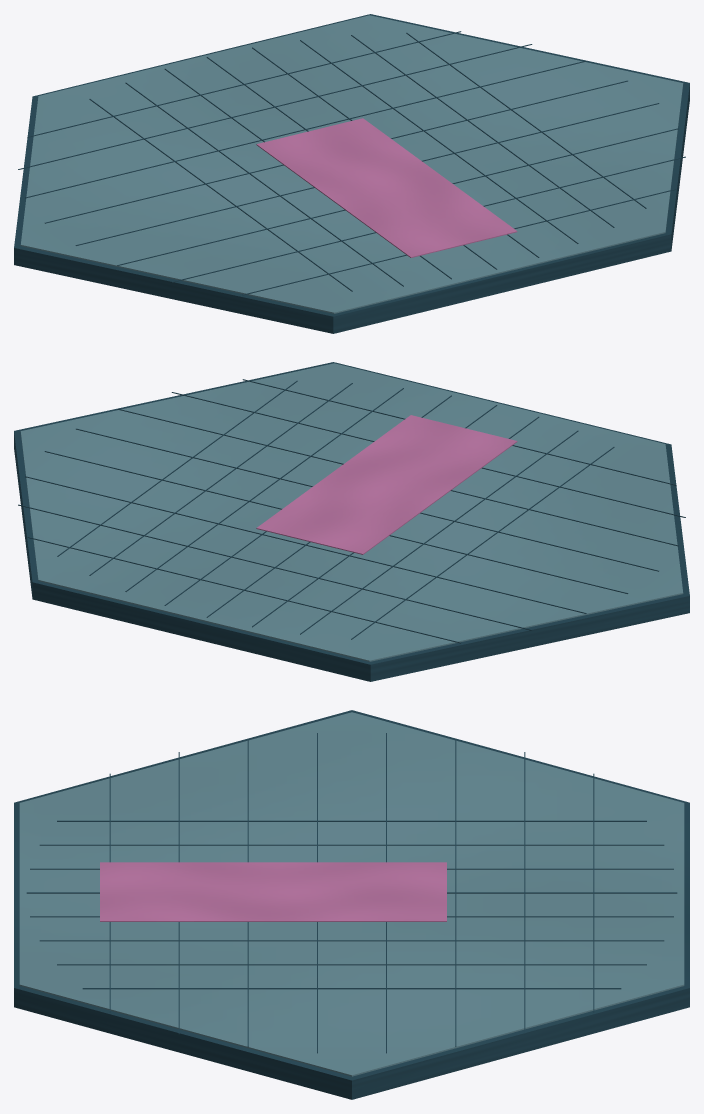
File: atlas100-s065-a07.lod1.glb
The picture shows the model from 3 angles, top to bottom: view 1: azimuth 30°, elevation 25°; view 2: azimuth 150°, elevation 25°; view 3: azimuth 270°, elevation 25°; orthographic projection. The views are drawn at different scales.
Visible parts, largest first — view 1: atlas100-s065-a07:part-001, atlas100-s065-a07:part-000, atlas100-s065-a07:part-021, atlas100-s065-a07:part-015, atlas100-s065-a07:part-014, atlas100-s065-a07:part-017, atlas100-s065-a07:part-016, atlas100-s065-a07:part-018, atlas100-s065-a07:part-013, atlas100-s065-a07:part-019, atlas100-s065-a07:part-005, atlas100-s065-a07:part-009 (+3 smaller); view 2: atlas100-s065-a07:part-001, atlas100-s065-a07:part-000, atlas100-s065-a07:part-021, atlas100-s065-a07:part-015, atlas100-s065-a07:part-014, atlas100-s065-a07:part-016, atlas100-s065-a07:part-017, atlas100-s065-a07:part-018, atlas100-s065-a07:part-013, atlas100-s065-a07:part-019, atlas100-s065-a07:part-005, atlas100-s065-a07:part-009 (+3 smaller); view 3: atlas100-s065-a07:part-001, atlas100-s065-a07:part-021, atlas100-s065-a07:part-000, atlas100-s065-a07:part-005, atlas100-s065-a07:part-009, atlas100-s065-a07:part-004, atlas100-s065-a07:part-010, atlas100-s065-a07:part-011, atlas100-s065-a07:part-015, atlas100-s065-a07:part-007, atlas100-s065-a07:part-006, atlas100-s065-a07:part-008.
Boxes of the visible parts, left/top/right/bottom form: atlas100-s065-a07:part-001: left=20, top=15, right=683, bottom=313; atlas100-s065-a07:part-000: left=14, top=14, right=689, bottom=333; atlas100-s065-a07:part-021: left=256, top=118, right=517, bottom=257; atlas100-s065-a07:part-015: left=25, top=60, right=586, bottom=198; atlas100-s065-a07:part-014: left=18, top=44, right=532, bottom=169; atlas100-s065-a07:part-017: left=75, top=103, right=659, bottom=245; atlas100-s065-a07:part-016: left=45, top=80, right=627, bottom=223; atlas100-s065-a07:part-018: left=117, top=128, right=678, bottom=265; atlas100-s065-a07:part-013: left=27, top=31, right=461, bottom=137; atlas100-s065-a07:part-019: left=171, top=156, right=685, bottom=282; atlas100-s065-a07:part-005: left=125, top=82, right=403, bottom=286; atlas100-s065-a07:part-009: left=300, top=40, right=578, bottom=243; atlas100-s065-a07:part-001: left=20, top=363, right=683, bottom=661; atlas100-s065-a07:part-000: left=14, top=362, right=689, bottom=681; atlas100-s065-a07:part-021: left=256, top=415, right=517, bottom=554; atlas100-s065-a07:part-015: left=25, top=476, right=586, bottom=613; atlas100-s065-a07:part-014: left=18, top=504, right=532, bottom=630; atlas100-s065-a07:part-016: left=44, top=451, right=628, bottom=593; atlas100-s065-a07:part-017: left=76, top=428, right=658, bottom=571; atlas100-s065-a07:part-018: left=117, top=408, right=678, bottom=546; atlas100-s065-a07:part-013: left=27, top=537, right=460, bottom=643; atlas100-s065-a07:part-019: left=171, top=392, right=685, bottom=517; atlas100-s065-a07:part-005: left=300, top=430, right=578, bottom=634; atlas100-s065-a07:part-009: left=125, top=388, right=403, bottom=591; atlas100-s065-a07:part-001: left=19, top=712, right=684, bottom=1076; atlas100-s065-a07:part-021: left=100, top=862, right=446, bottom=921; atlas100-s065-a07:part-000: left=14, top=710, right=689, bottom=1099; atlas100-s065-a07:part-005: left=39, top=844, right=664, bottom=845; atlas100-s065-a07:part-009: left=39, top=940, right=664, bottom=941; atlas100-s065-a07:part-004: left=57, top=820, right=646, bottom=821; atlas100-s065-a07:part-010: left=57, top=964, right=646, bottom=965; atlas100-s065-a07:part-011: left=82, top=988, right=621, bottom=989; atlas100-s065-a07:part-015: left=455, top=739, right=456, bottom=1046; atlas100-s065-a07:part-007: left=26, top=892, right=677, bottom=893; atlas100-s065-a07:part-006: left=30, top=868, right=673, bottom=869; atlas100-s065-a07:part-008: left=30, top=916, right=673, bottom=917.
Bounding box in the file's own units: 13.95 × 0.404 × 10.76.
3 materials, 3 textured.
